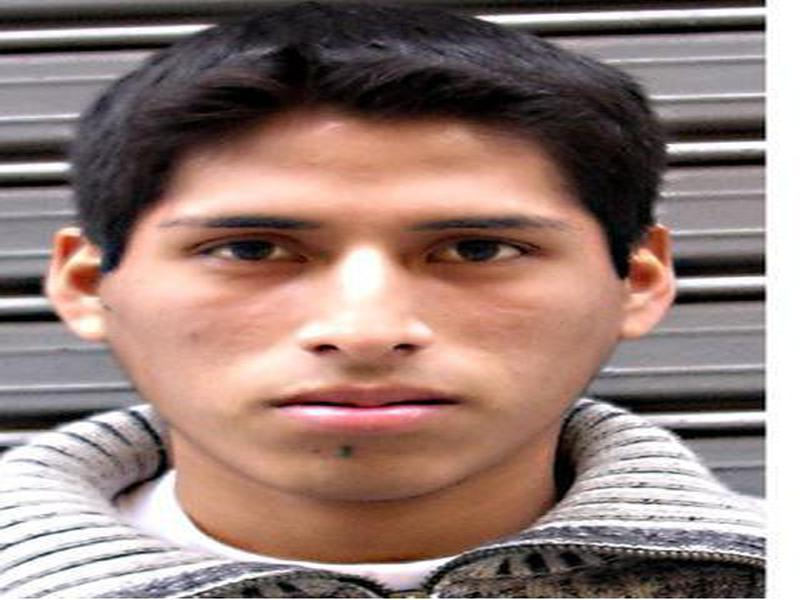without_mask: (134, 123, 606, 504)
